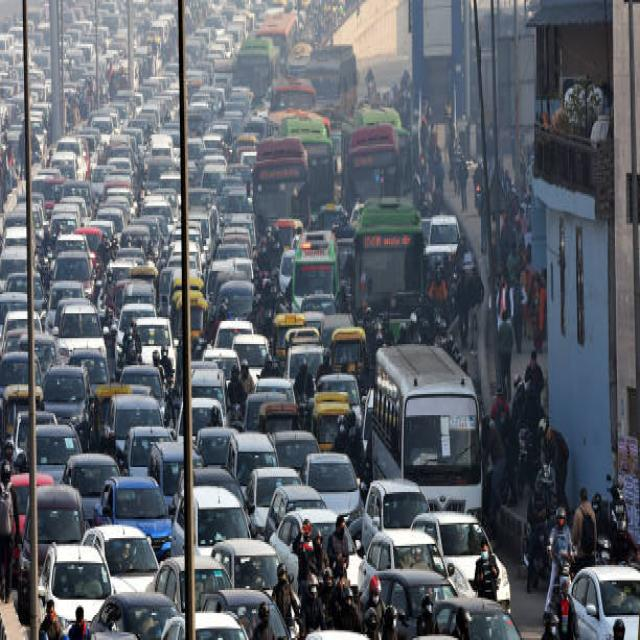ambulance: (287, 234, 341, 316), (293, 240, 338, 298)
